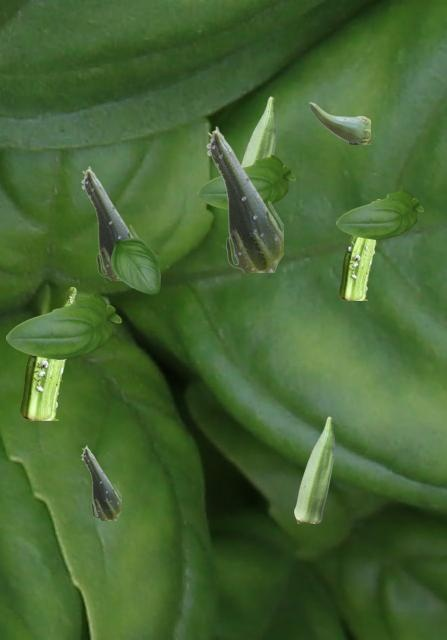okra: (206, 126, 282, 271), (20, 287, 75, 419), (81, 166, 138, 279), (294, 416, 333, 522), (339, 199, 377, 299), (81, 445, 120, 519), (309, 102, 369, 143), (241, 96, 275, 166)
